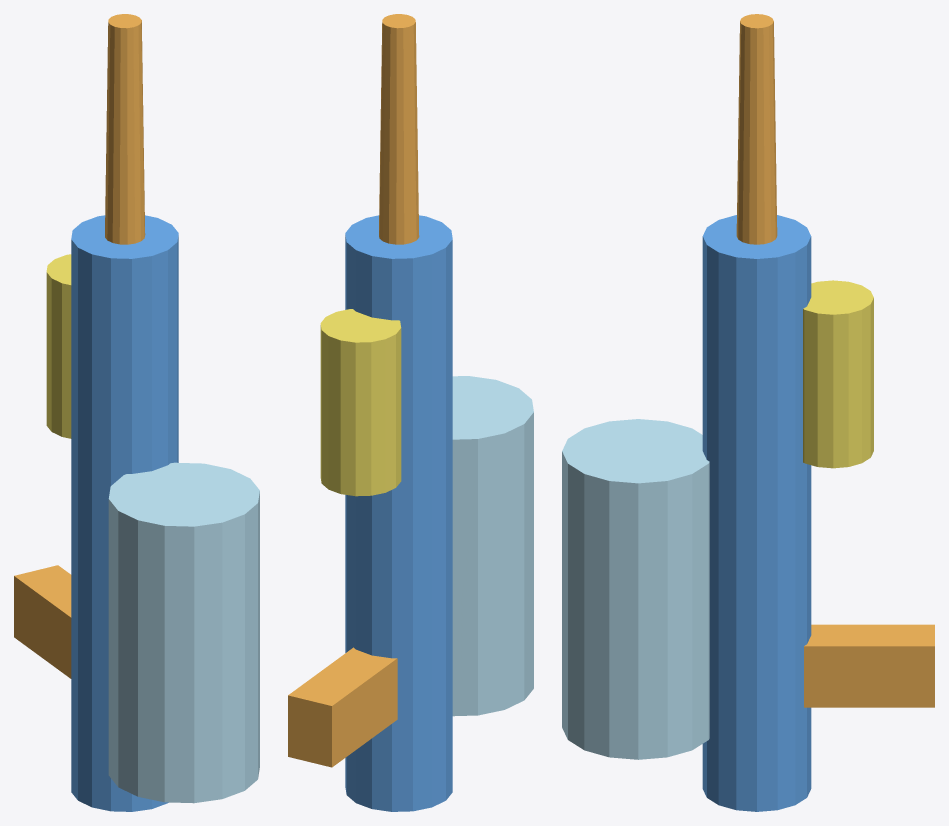
The model's file is waterpistol.glb.
3 renders of one model, left to right at view 1: azimuth 30°, elevation 25°; view 2: azimuth 150°, elevation 25°; view 3: azimuth 270°, elevation 25°, orthographic.
Visible parts, largest first — view 1: waterpistol; view 2: waterpistol; view 3: waterpistol.
Boxes of the visible parts, x1,y1,x2,y2 form: waterpistol: [14, 14, 259, 811]; waterpistol: [288, 14, 533, 811]; waterpistol: [562, 14, 934, 811].
Bounding box in the file's own units: 0.09 × 0.5 × 0.22.
